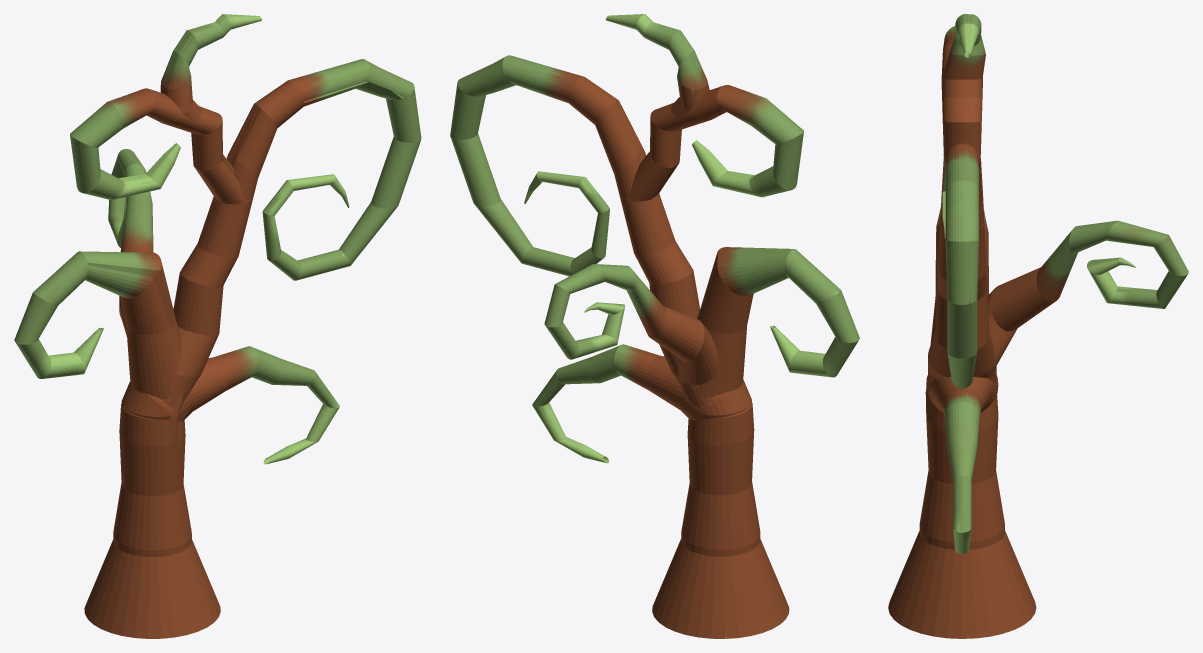
File: baum.obj
3 renders of one model, left to right at view 1: azimuth 30°, elevation 25°; view 2: azimuth 150°, elevation 25°; view 3: azimuth 270°, elevation 25°, orthographic. The views are drawn at different scales.
Parts seen in each view (by area): view 1: Cylinder.001_Cylinder.002; view 2: Cylinder.001_Cylinder.002; view 3: Cylinder.001_Cylinder.002.
Boxes of the visible parts, x1=… form: Cylinder.001_Cylinder.002: x1=14, y1=14, x2=421, y2=638; Cylinder.001_Cylinder.002: x1=450, y1=14, x2=859, y2=638; Cylinder.001_Cylinder.002: x1=888, y1=14, x2=1188, y2=638.
Size of the model in its own units: 10.22 by 13.9 by 6.07.
